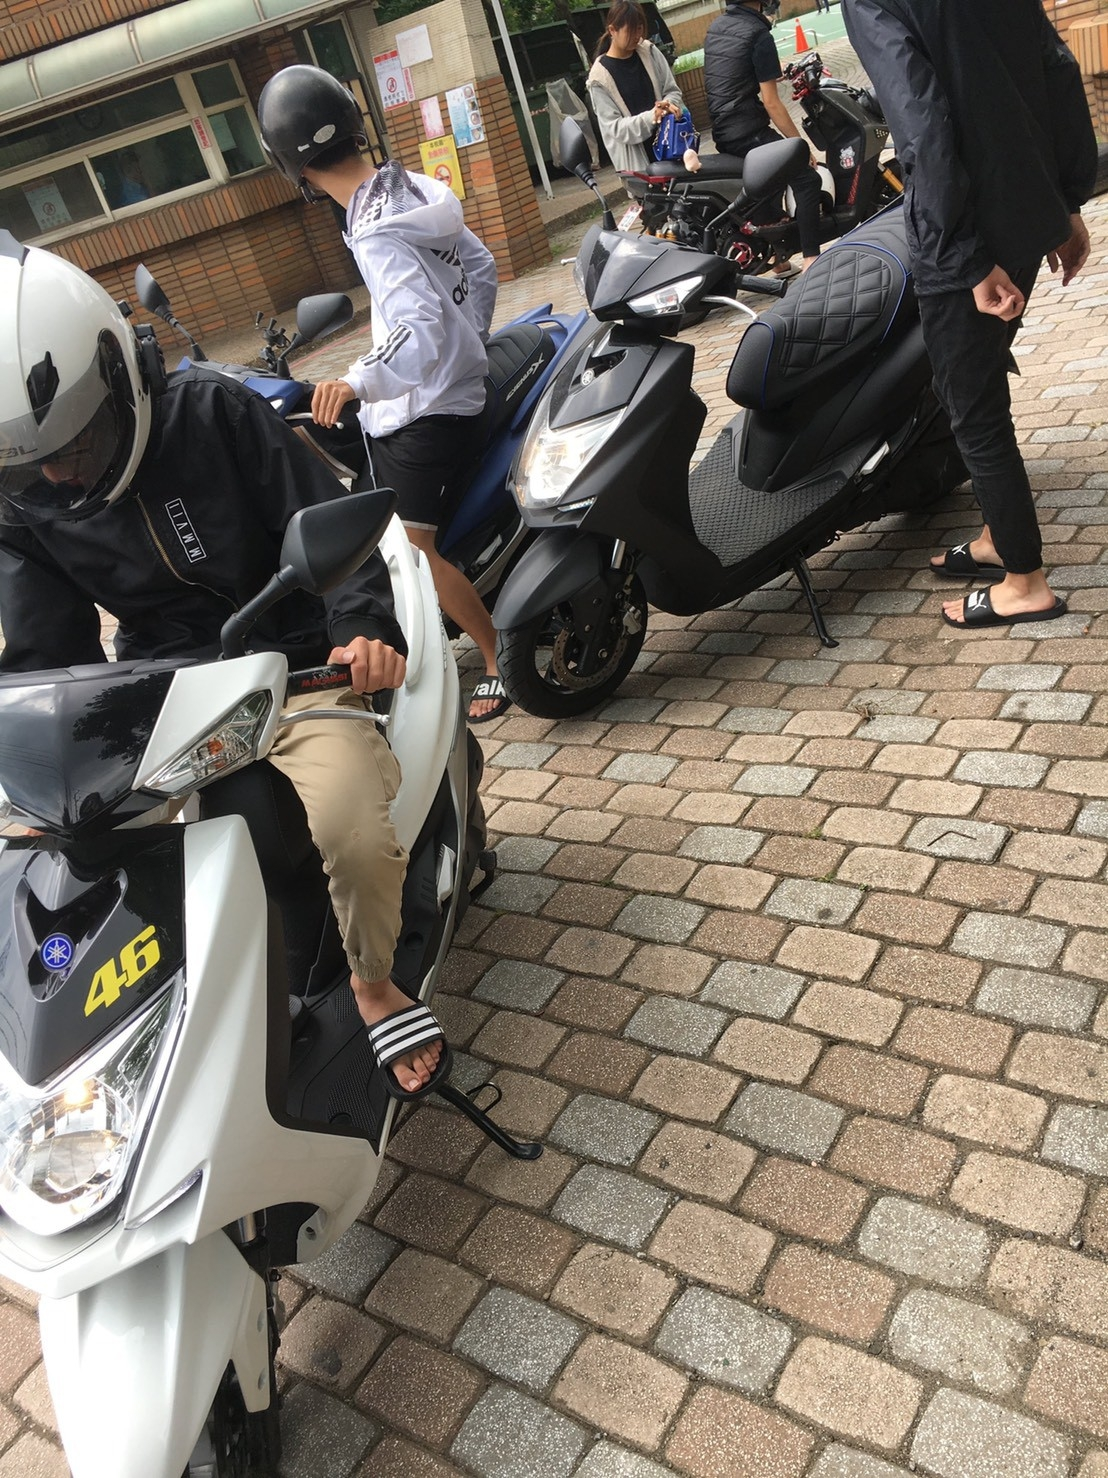people: (1, 238, 447, 1088), (833, 2, 1097, 631), (247, 66, 505, 573), (702, 2, 821, 233), (583, 2, 700, 219)
